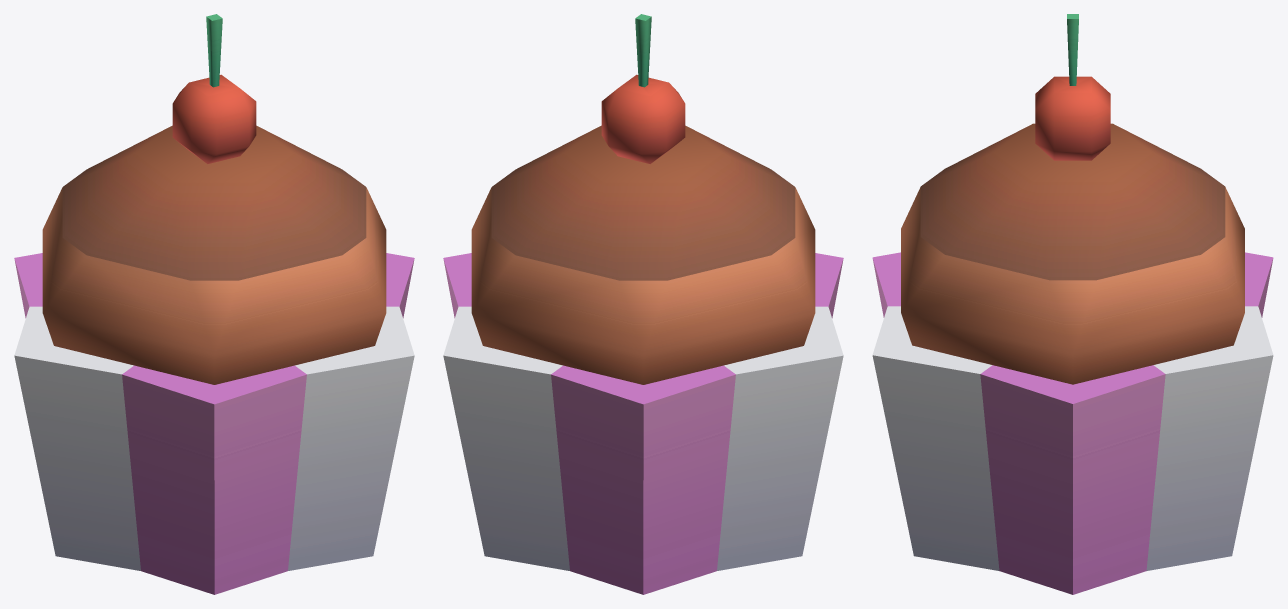
File: cupcake.opt.glb
The picture shows the model from 3 angles, left to right: view 1: azimuth 30°, elevation 25°; view 2: azimuth 150°, elevation 25°; view 3: azimuth 270°, elevation 25°; orthographic projection.
Visible parts, largest first — view 1: cupcake, cake, cherry; view 2: cupcake, cake, cherry; view 3: cupcake, cake, cherry.
Boxes of the visible parts, x1,y1,x2,y2 form: cupcake: (14, 253, 414, 594); cake: (42, 125, 386, 384); cherry: (172, 14, 256, 163); cupcake: (443, 253, 843, 594); cake: (471, 125, 815, 384); cherry: (601, 14, 685, 163); cupcake: (872, 252, 1273, 594); cake: (901, 123, 1244, 384); cherry: (1035, 14, 1110, 160).
Bounding box in the file's own units: 0.3552 × 0.4238 × 0.3076.
1 material, 1 textured.
